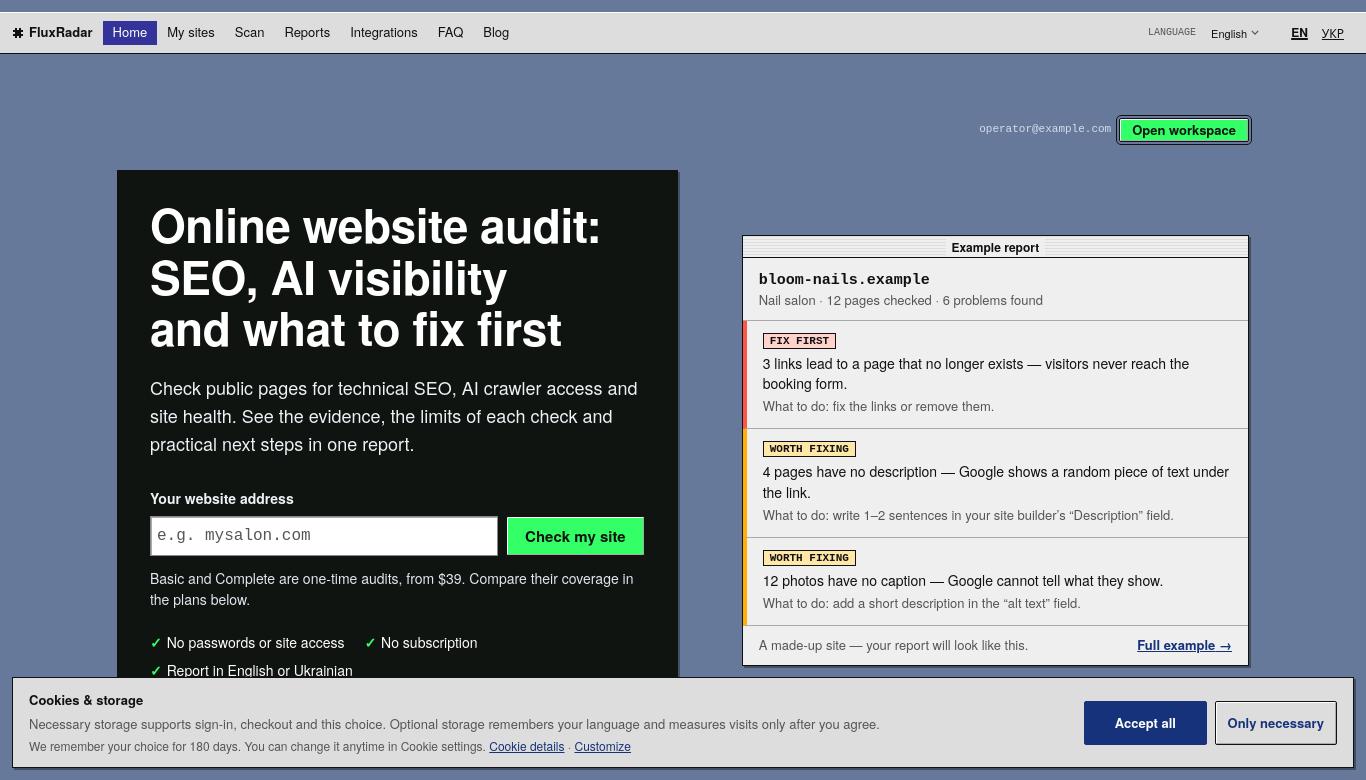
NewScanScreen › closes the New scan window and returns to the desktop workspace
The width and height of the screenshot is (1366, 780).
Note: Navigate into the workspace.
Click the button "Open workspace" at (1184, 130), box [1119, 118, 1249, 142]
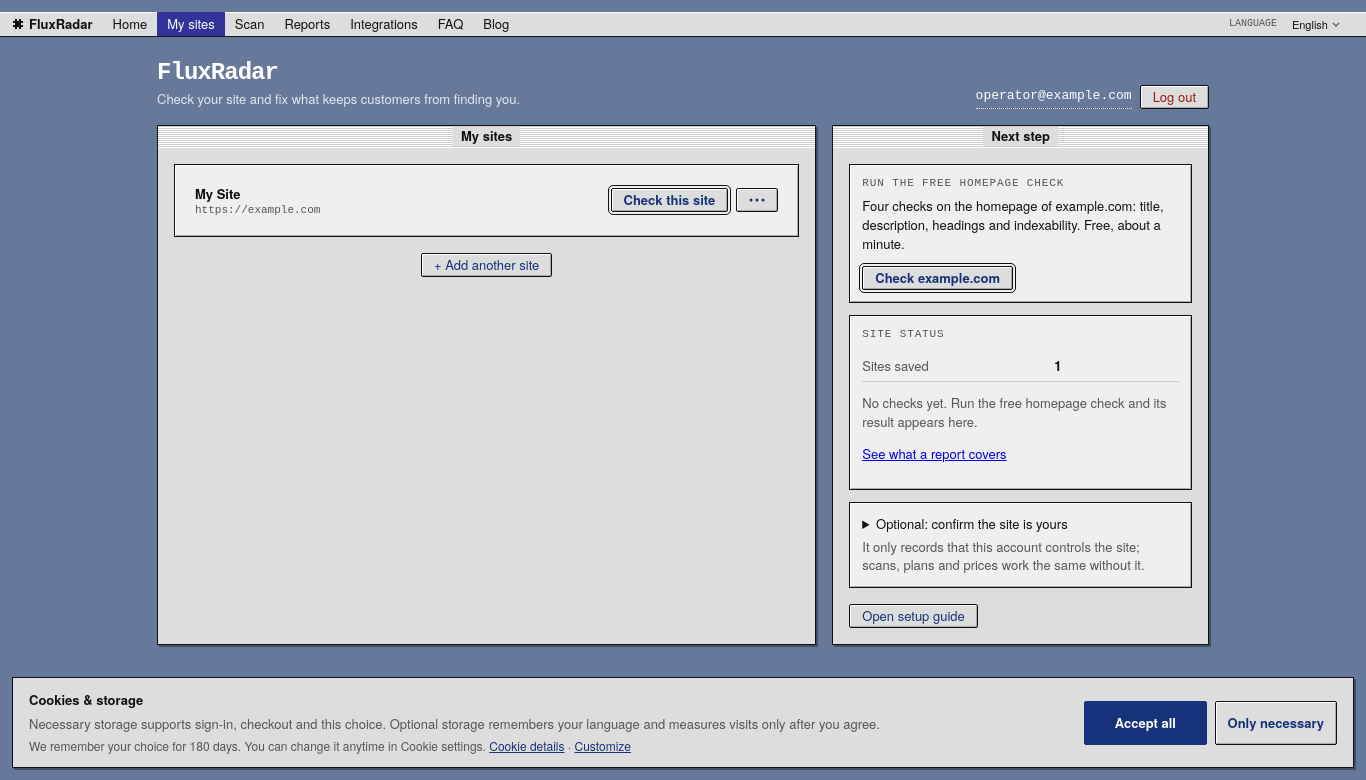
Now the text "Check your site and fix what keeps customers from finding you." is shown, box [157, 90, 520, 109]
Note: Open the New scan dialog.
Click the button "Check this site" at (669, 200), box [610, 188, 728, 212]
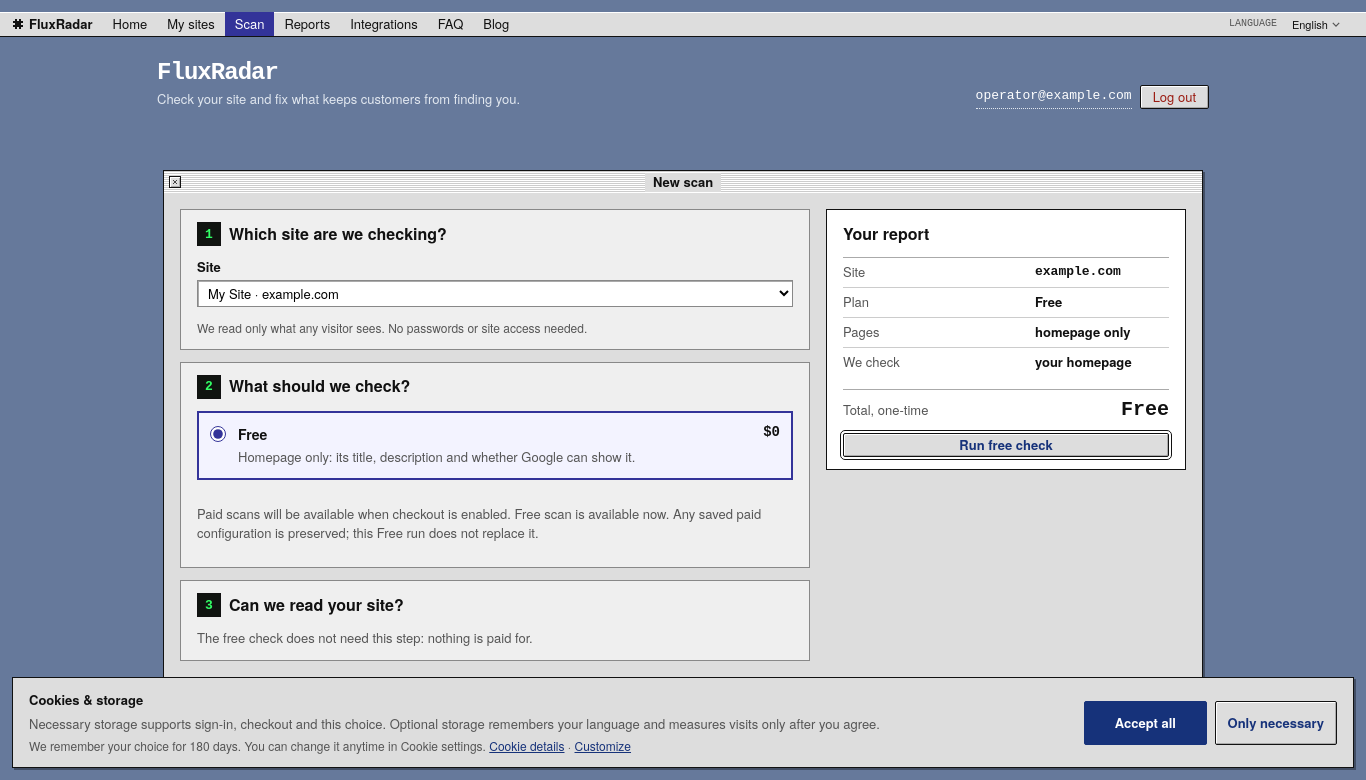
Now the text "New scan" is shown, box [645, 173, 721, 192]
Note: Close the dialog via the title-bar close button.
Click the button named "Close window" at (175, 182), box [164, 171, 186, 193]
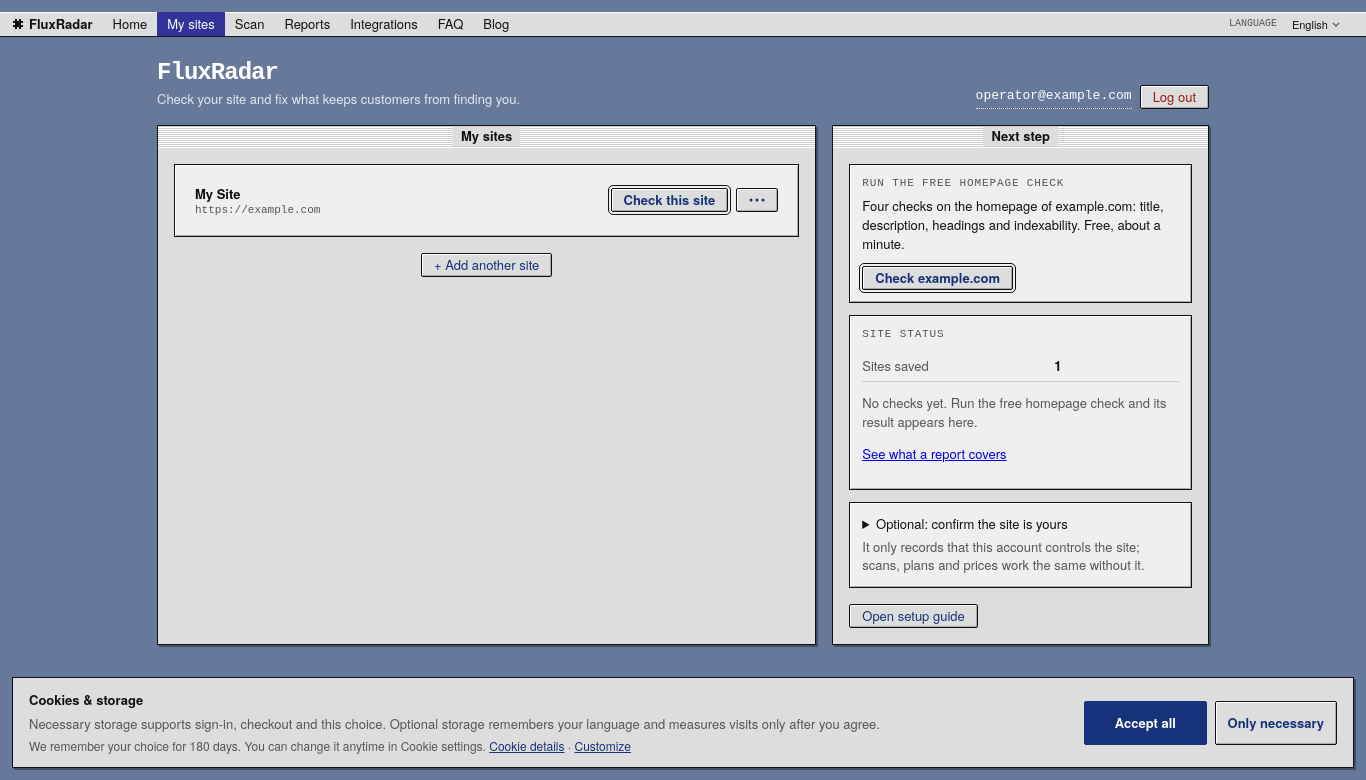
Now the text "Check your site and fix what keeps customers from finding you." is shown, box [157, 90, 520, 109]
Now the text "New scan" is gone
